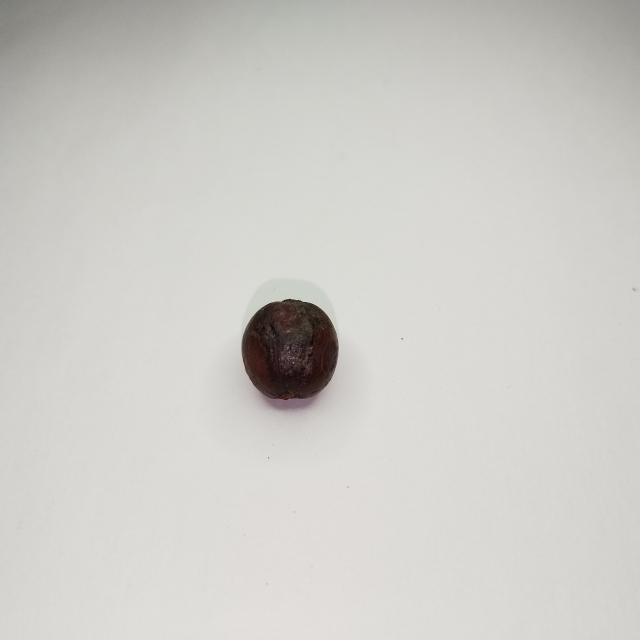Danado: (242, 299, 339, 401)
